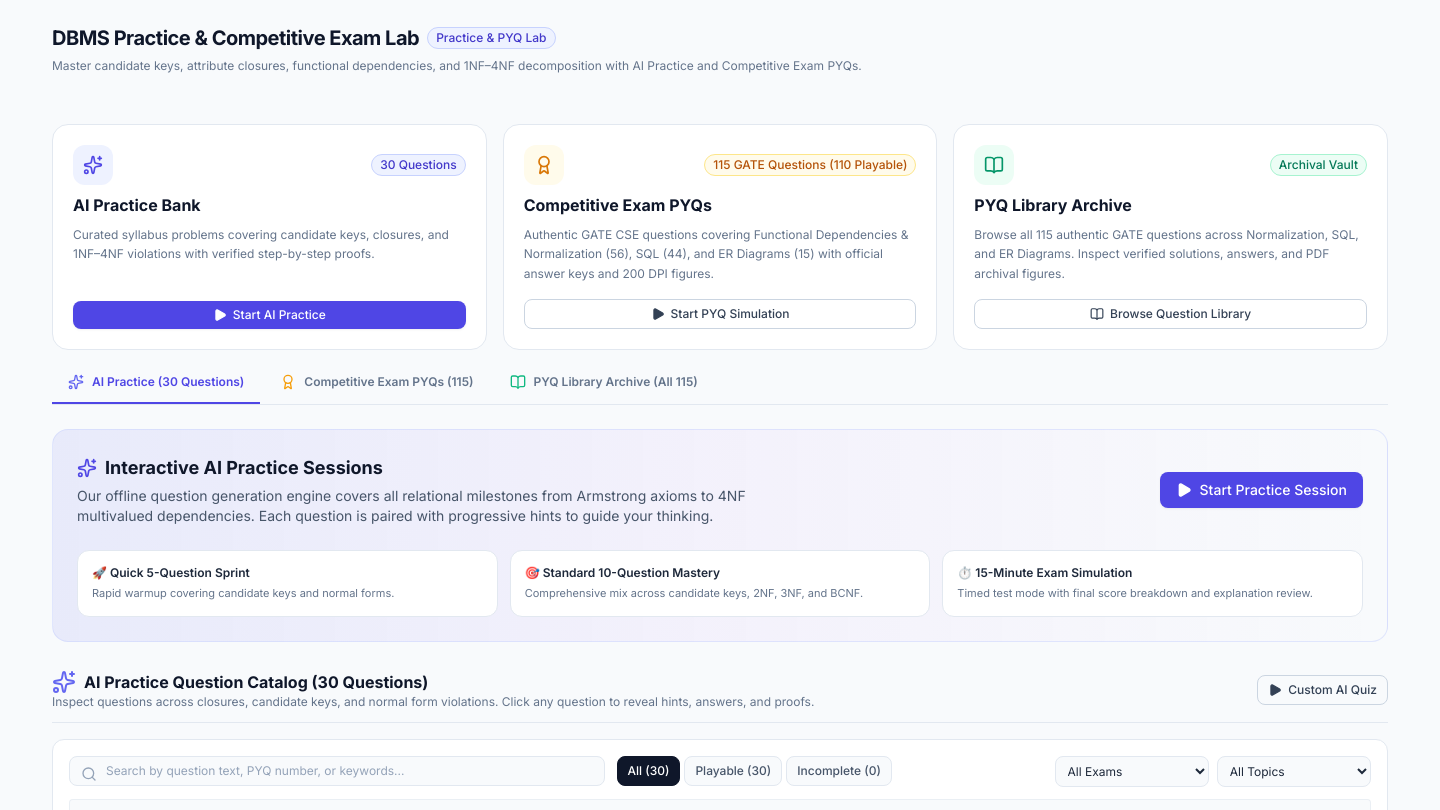
PracticePage Interactive PYQ Clicks › opens QuizConfigModal when clicking Start PYQ Simulation in hero overview card
This screenshot has width=1440, height=810.
Step 1. Click the button with id "start-pyq-quiz-btn" → (720, 314), box [524,299,916,329]
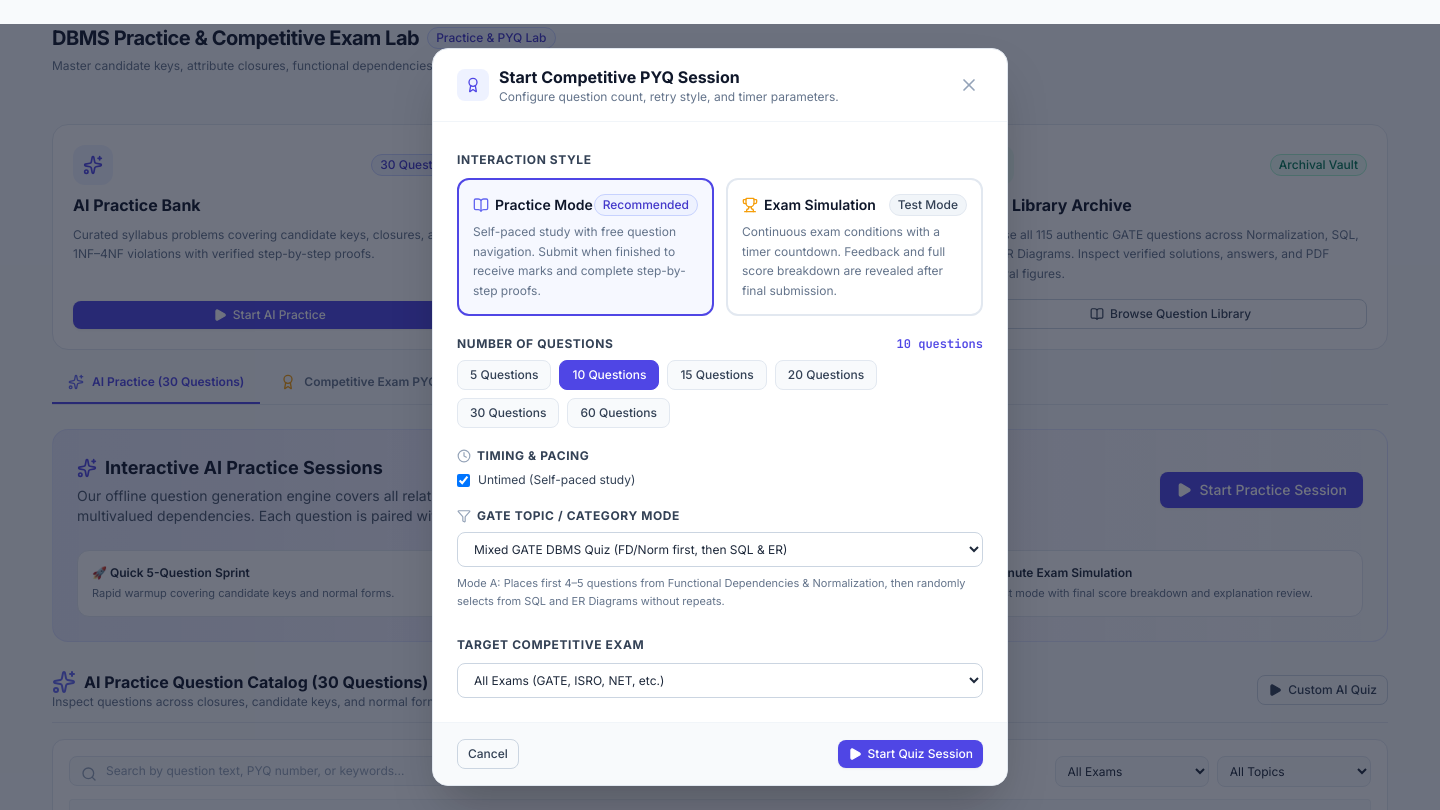
Expected: the heading "Start Competitive PYQ Session" is shown, [499,67,740,87]
